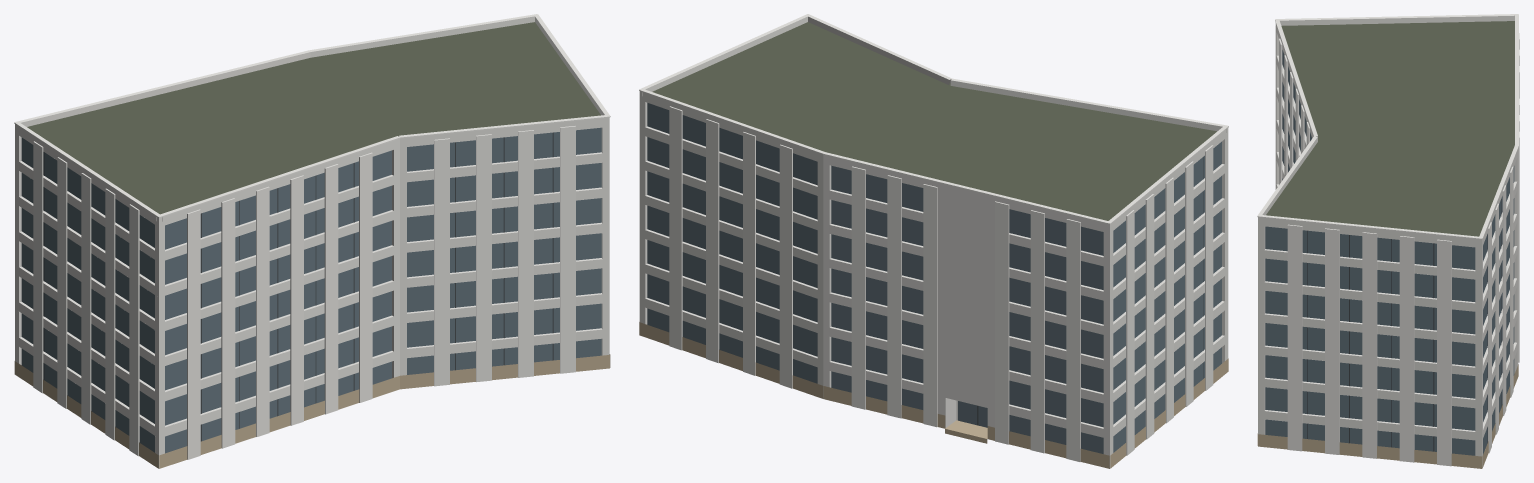
3 views of the same model, side by side, from view 1: azimuth 30°, elevation 25°; view 2: azimuth 150°, elevation 25°; view 3: azimuth 270°, elevation 25° (orthographic). The views are drawn at different scales.
Parts seen in each view (by area): view 1: eh303__glass, eh303__trim, eh303__roof, eh303__wall, eh303__parapet, eh303__base, eh303__frame; view 2: eh303__glass, eh303__trim, eh303__roof, eh303__wall, eh303__parapet, eh303__base; view 3: eh303__roof, eh303__trim, eh303__glass, eh303__wall, eh303__parapet, eh303__base, eh303__frame.
Part boxes in pixels (x1=…): eh303__glass: x1=21, y1=127, x2=601, y2=453; eh303__trim: x1=14, y1=14, x2=610, y2=459; eh303__roof: x1=27, y1=22, x2=600, y2=214; eh303__wall: x1=15, y1=122, x2=609, y2=468; eh303__parapet: x1=15, y1=16, x2=609, y2=222; eh303__base: x1=14, y1=354, x2=610, y2=468; eh303__frame: x1=43, y1=132, x2=553, y2=441; eh303__glass: x1=647, y1=103, x2=1221, y2=453; eh303__trim: x1=639, y1=14, x2=1228, y2=461; eh303__roof: x1=652, y1=22, x2=1216, y2=220; eh303__wall: x1=639, y1=95, x2=1228, y2=468; eh303__parapet: x1=639, y1=16, x2=1228, y2=228; eh303__base: x1=639, y1=322, x2=1228, y2=468; eh303__roof: x1=1266, y1=21, x2=1514, y2=236; eh303__trim: x1=1257, y1=14, x2=1519, y2=466; eh303__glass: x1=1265, y1=50, x2=1514, y2=455; eh303__wall: x1=1258, y1=26, x2=1518, y2=467; eh303__parapet: x1=1258, y1=15, x2=1518, y2=243; eh303__base: x1=1257, y1=364, x2=1518, y2=468; eh303__frame: x1=1307, y1=199, x2=1501, y2=451.
Bounding box in the file's own units: 46.45 × 22.6 × 22.92.
